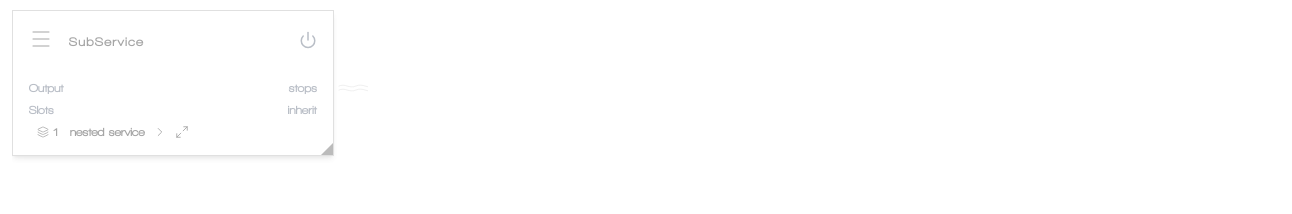
Test: a scope's panel on a REST runtime, inside a use of a block › offers one way onto its level, and it opens the level
The image size is (1292, 214).
Click the button titled "Open SubService as its own level" at (182, 132), box left=175, top=125, right=189, bottom=139
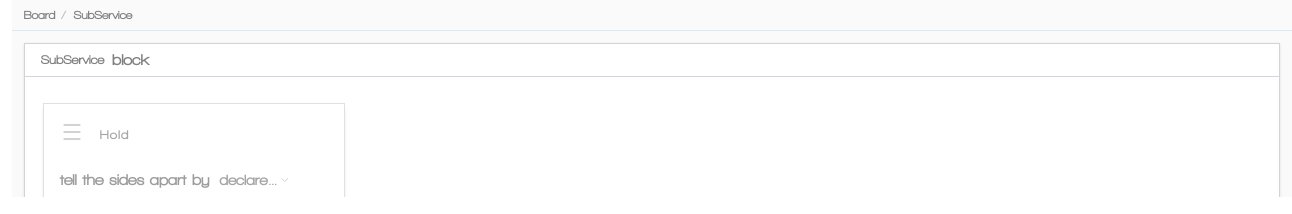
Expected: the navigation bar named "Nested pipeline" is shown, left=12, top=0, right=1291, bottom=31
